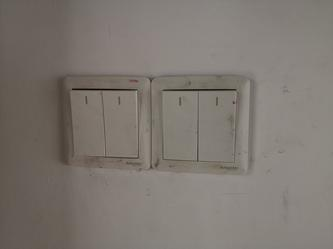switch: (196, 86, 242, 166), (67, 85, 109, 160), (159, 87, 200, 163), (99, 87, 142, 159)
